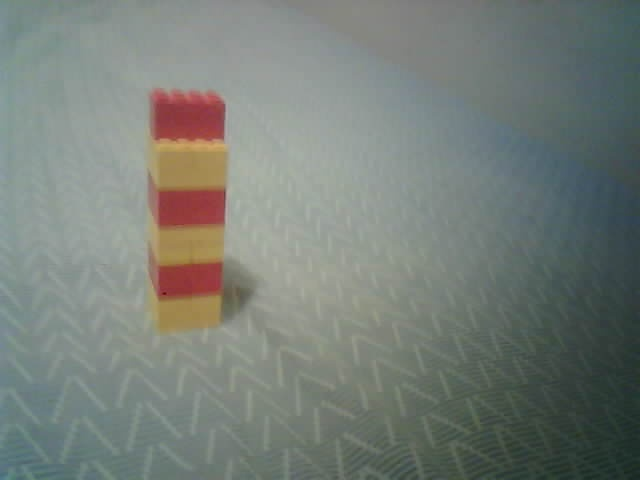lego: (144, 87, 229, 335)
